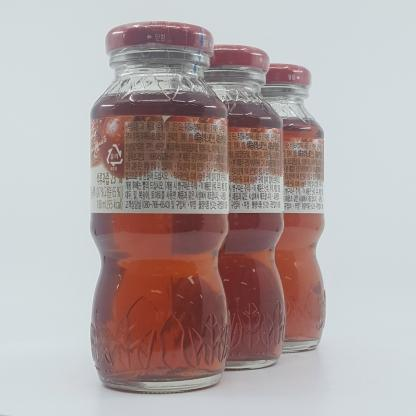-------180ML: (90, 21, 231, 393), (178, 44, 286, 371), (234, 63, 326, 353)
